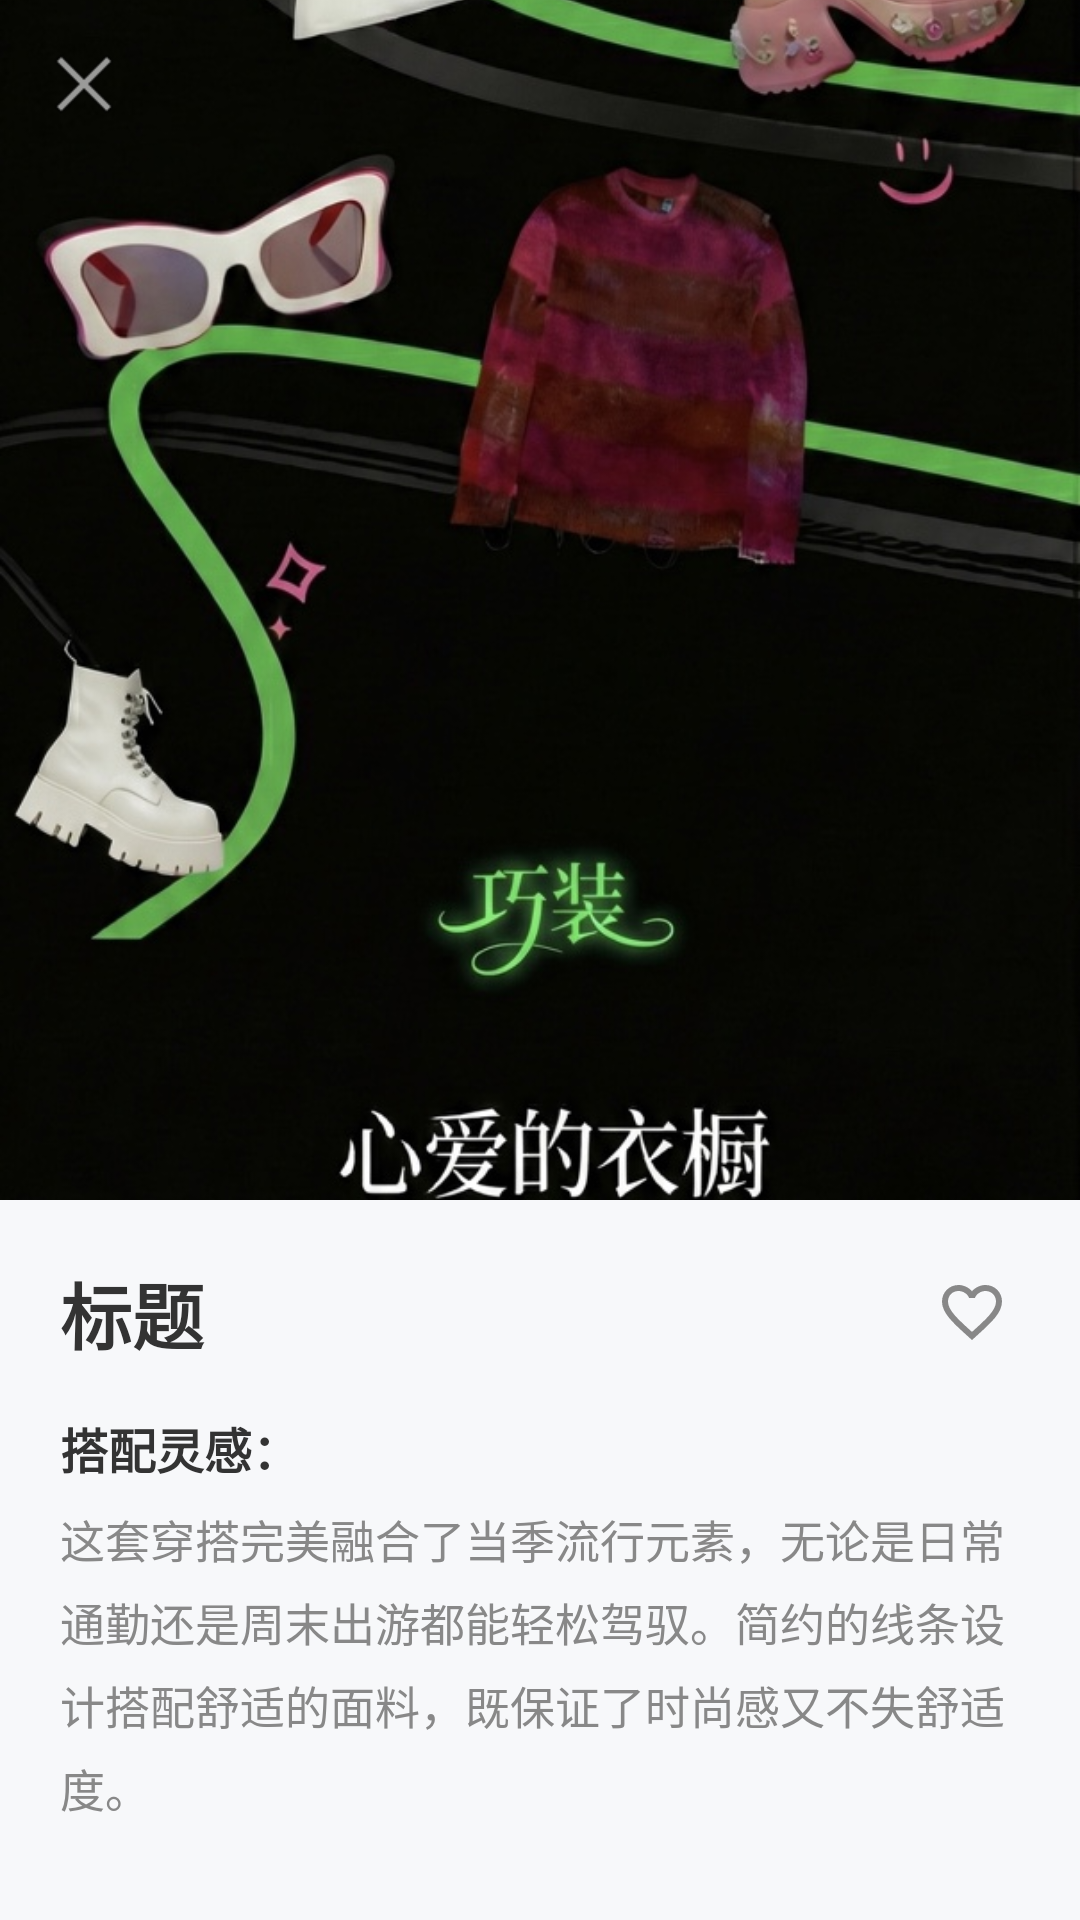

Screen size 1080px x 1920px. Icon name, then its box in pixels as (left=x1, top=y1, right=x2, bottom=y2):
heart: (left=942, top=1285, right=1002, bottom=1340)
